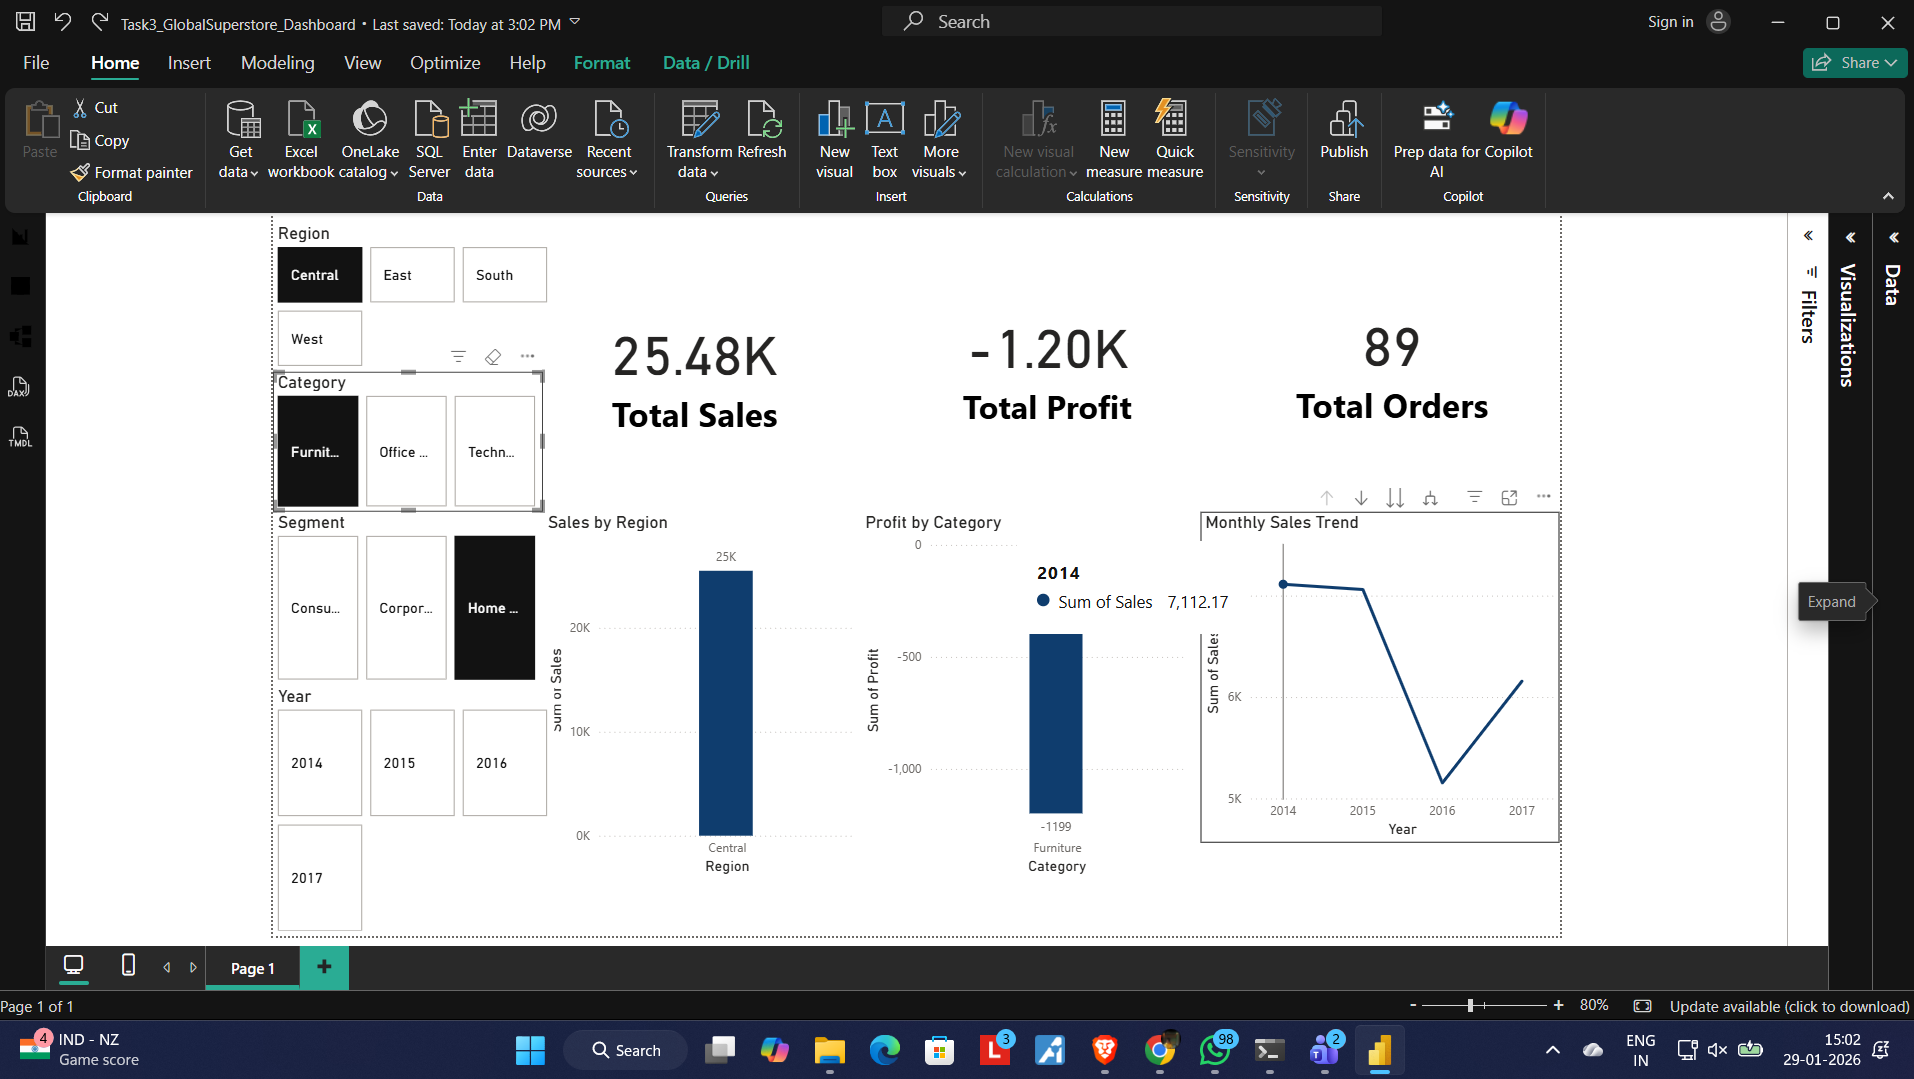

The page's visual inventory and layout, read from the dashboard file:
{"tool":"powerbi","page":{"name":"Page 1","canvas":[1280,720],"ordinal":0},"visuals":[{"type":"card","fields":{"Values":["Sum(Orders.Sales)"]},"box":[279.9,17.8,279.9,279.9],"z":0},{"type":"card","fields":{"Values":["Sum(Orders.Profit)"]},"box":[631.2,9.6,279.9,279.9],"z":1000},{"type":"card","fields":{"Values":["CountNonNull(Orders.Order ID)"]},"box":[974.3,17.8,279.9,262.1],"z":2000},{"type":"clusteredColumnChart","title":"Sales by Region","fields":{"Category":["Orders.Region"],"Y":["Sum(Orders.Sales)"]},"box":[269,297.8,315.6,366.4],"z":3000},{"type":"clusteredColumnChart","title":"Profit by Category","fields":{"Category":["Orders.Category"],"Y":["Sum(Orders.Profit)"]},"box":[584.6,297.8,326.6,366.4],"z":4000},{"type":"lineChart","title":"Monthly Sales Trend","fields":{"Category":["Orders.Order Date.Variation.Date Hierarchy.Year","Orders.Order Date.Variation.Date Hierarchy.Month"],"Y":["Sum(Orders.Sales)"]},"box":[923.5,297.8,356.8,329.3],"z":5000},{"type":"advancedSlicerVisual","fields":{"Values":["Orders.Region"]},"box":[0,9.6,279.9,148.2],"z":6000},{"type":"advancedSlicerVisual","fields":{"Values":["Orders.Category"]},"box":[0,157.8,269,140],"z":7000},{"type":"advancedSlicerVisual","fields":{"Values":["Orders.Segment"]},"box":[0,297.8,269,172.9],"z":8000},{"type":"advancedSlicerVisual","fields":{"Values":["Orders.Order Date.Variation.Date Hierarchy.Year"]},"box":[0,470.7,279.9,249.7],"z":9000}]}

Visuals, with their boxes on the page's 1280x720 design canvas (x1, y1, x2, y2). These are canvas units, not pixel positions in the 1914x1079 screenshot, which may show the page scaled, cropped or inside an application window:
card - Sum(Orders.Sales): (280, 18, 560, 298)
card - Sum(Orders.Profit): (631, 10, 911, 290)
card - CountNonNull(Orders.Order ID): (974, 18, 1254, 280)
"Sales by Region" clusteredColumnChart: (269, 298, 585, 664)
"Profit by Category" clusteredColumnChart: (585, 298, 911, 664)
"Monthly Sales Trend" lineChart: (924, 298, 1280, 627)
advancedSlicerVisual - Orders.Region: (0, 10, 280, 158)
advancedSlicerVisual - Orders.Category: (0, 158, 269, 298)
advancedSlicerVisual - Orders.Segment: (0, 298, 269, 471)
advancedSlicerVisual - Orders.Order Date.Variation.Date Hierarchy.Year: (0, 471, 280, 720)
